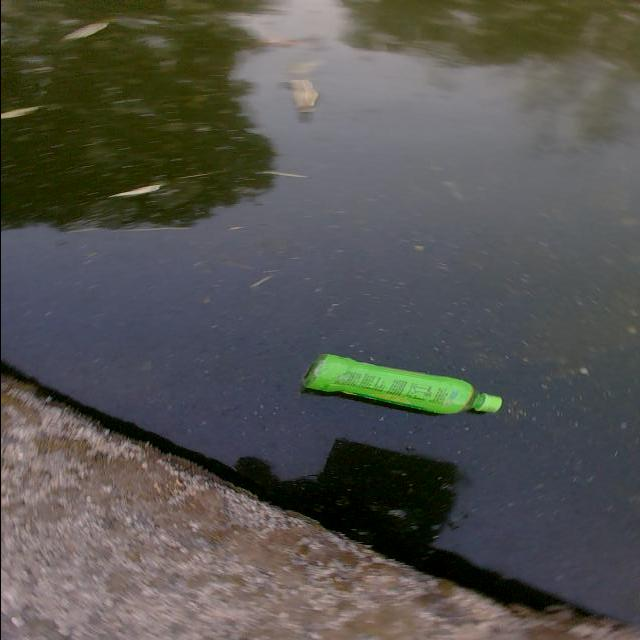bottle: (269, 332, 537, 442)
